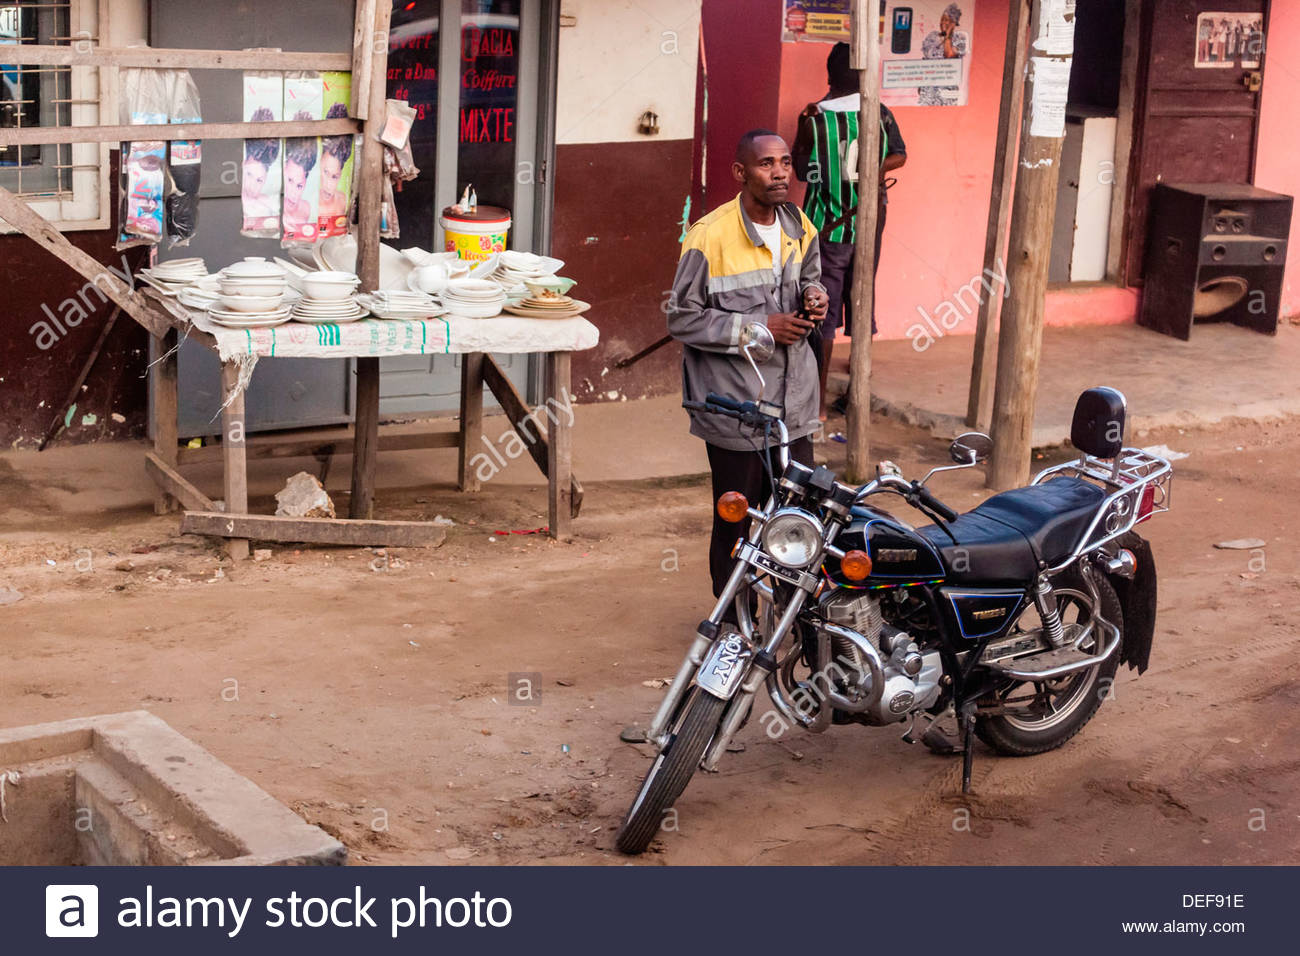motorbike: (606, 371, 1232, 859)
